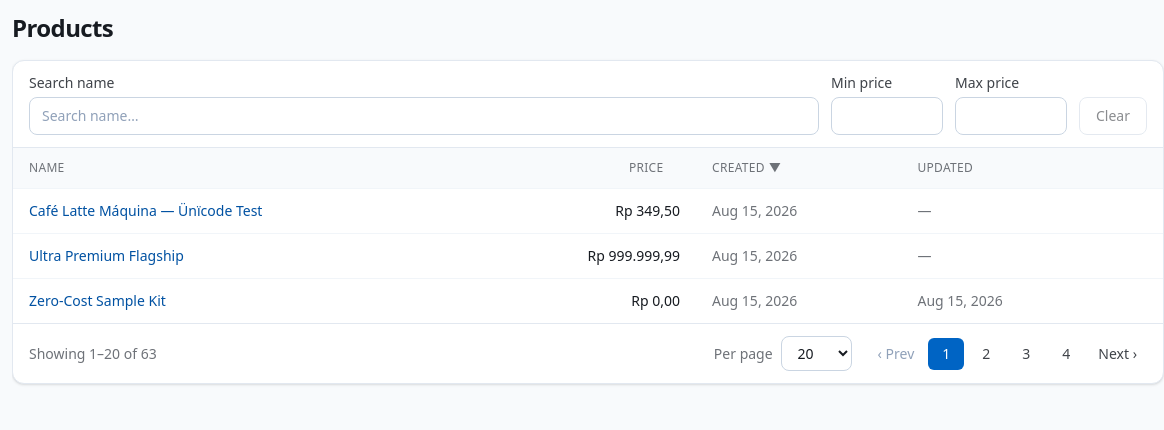
Scenario: endpoint selection › never sends a request when minPrice exceeds maxPrice
Type "50" into the number field labelled "Min price".
click(887, 116); type("50")  # box [831,97,943,135]
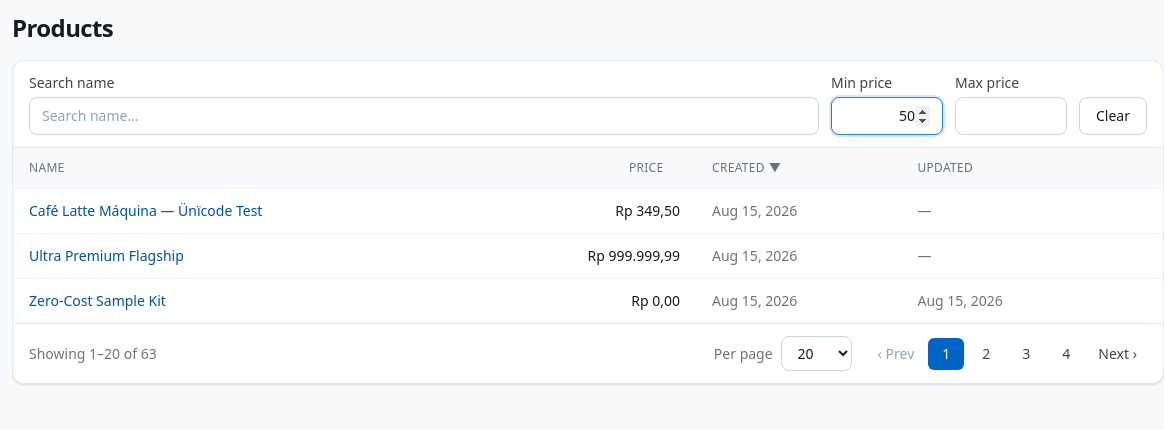
Type "10" into the number field labelled "Max price".
click(1011, 116); type("10")  # box [955,97,1067,135]
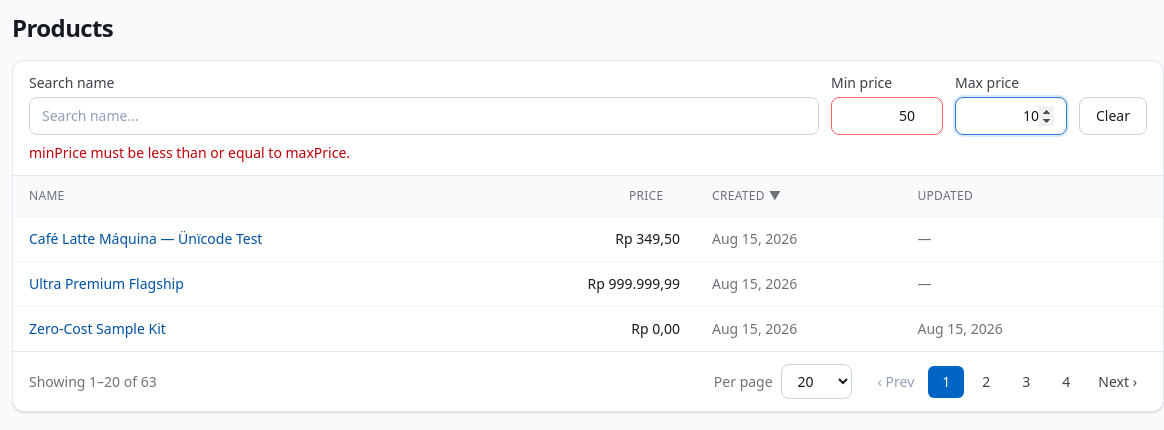
expect the text "minPrice must be less than or equal to maxPrice." is shown: met, box [29,143,350,162]
